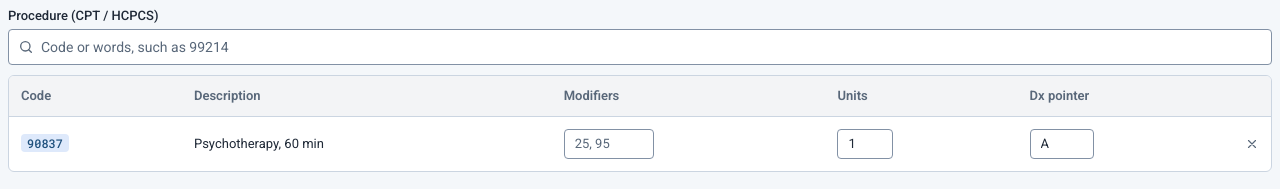
CPTPicker › edits modifiers and units and removes lines
Type "95" into the field named "Modifiers for 90837" at (609, 144), box [564,128,654,158]
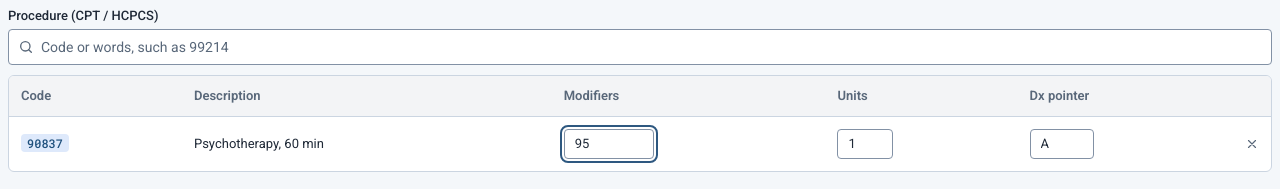
Replace the text in the field named "Units for 90837" with "2x" at (866, 144), box [838,128,894,158]
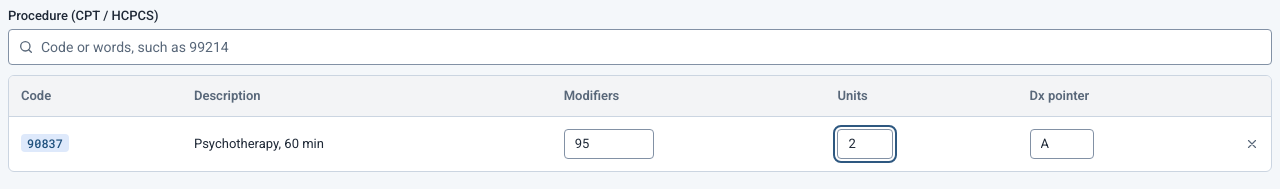
Expected: the field named "Units for 90837" holds "2", [838,128,894,158]
Click the button named "Remove 90837" at (1252, 144), box [1237,128,1267,158]
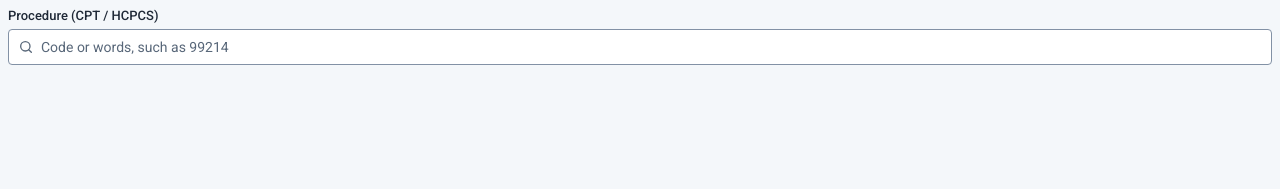
Expected: the table is gone
